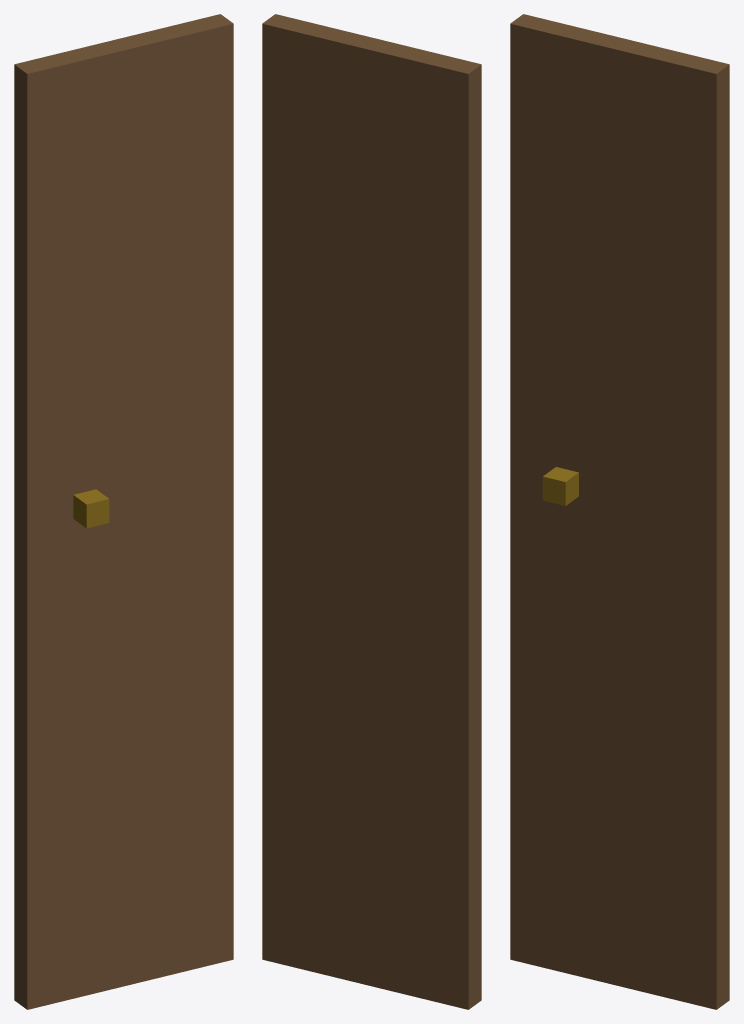
The model's file is Wardrobe00-Door1.gltf.
The picture shows the model from 3 angles, left to right: view 1: azimuth 30°, elevation 25°; view 2: azimuth 150°, elevation 25°; view 3: azimuth 330°, elevation 25°; orthographic projection.
Parts seen in each view (by area): view 1: Door.1; view 2: Door.1; view 3: Door.1.
Part boxes in pixels (x1,y1,x2,y2): Door.1: [14, 14, 233, 1009]; Door.1: [262, 14, 481, 1009]; Door.1: [510, 14, 729, 1009].
Size of the model in its own units: 9 by 39 by 2.
